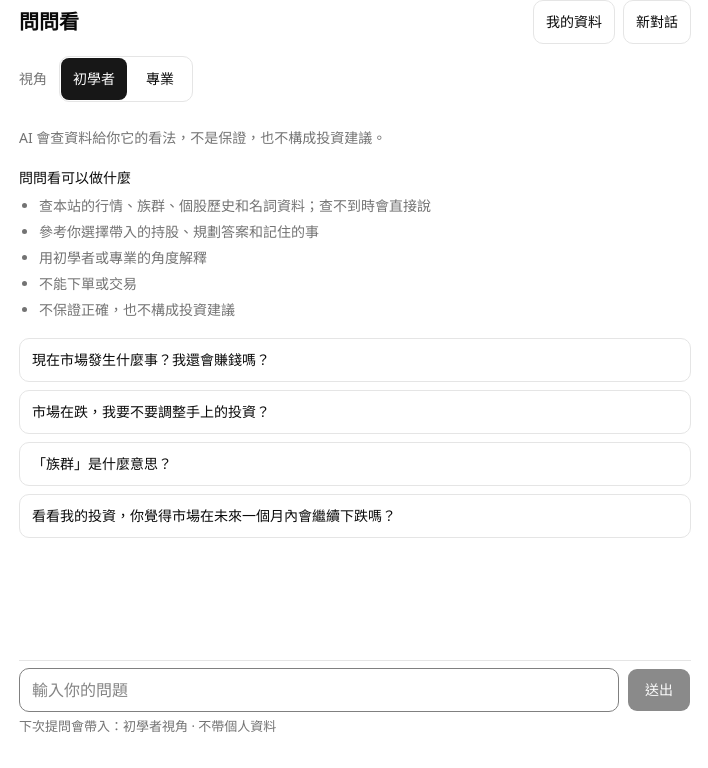
Test: chat: heading structure › puts the seven answer titles under the h1 without skipping a level
The width and height of the screenshot is (708, 768).
Type "你好" into the text box named "提問".
click(319, 690); type("你好")  # box [19,668,619,712]
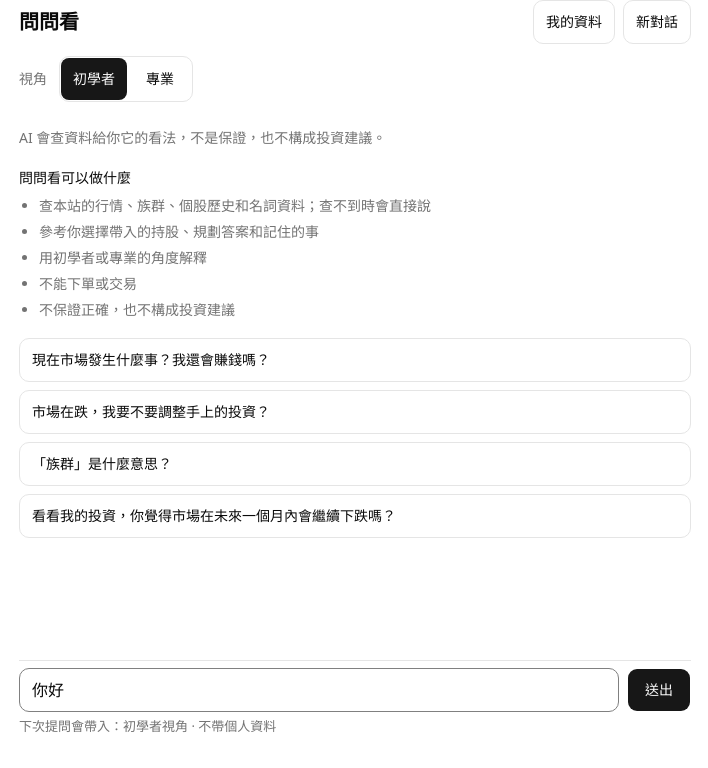
Click the button "送出".
click(659, 690)  # box [627,668,691,712]
(page scrolled)
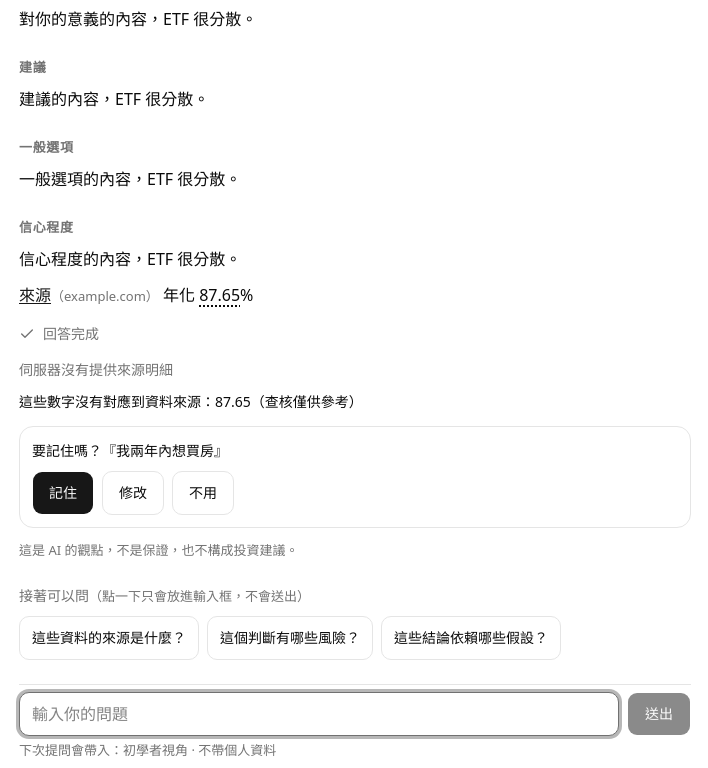
expect the text "這是 AI 的觀點，不是保證，也不構成投資建議。" is shown: met, box [19,541,298,559]
